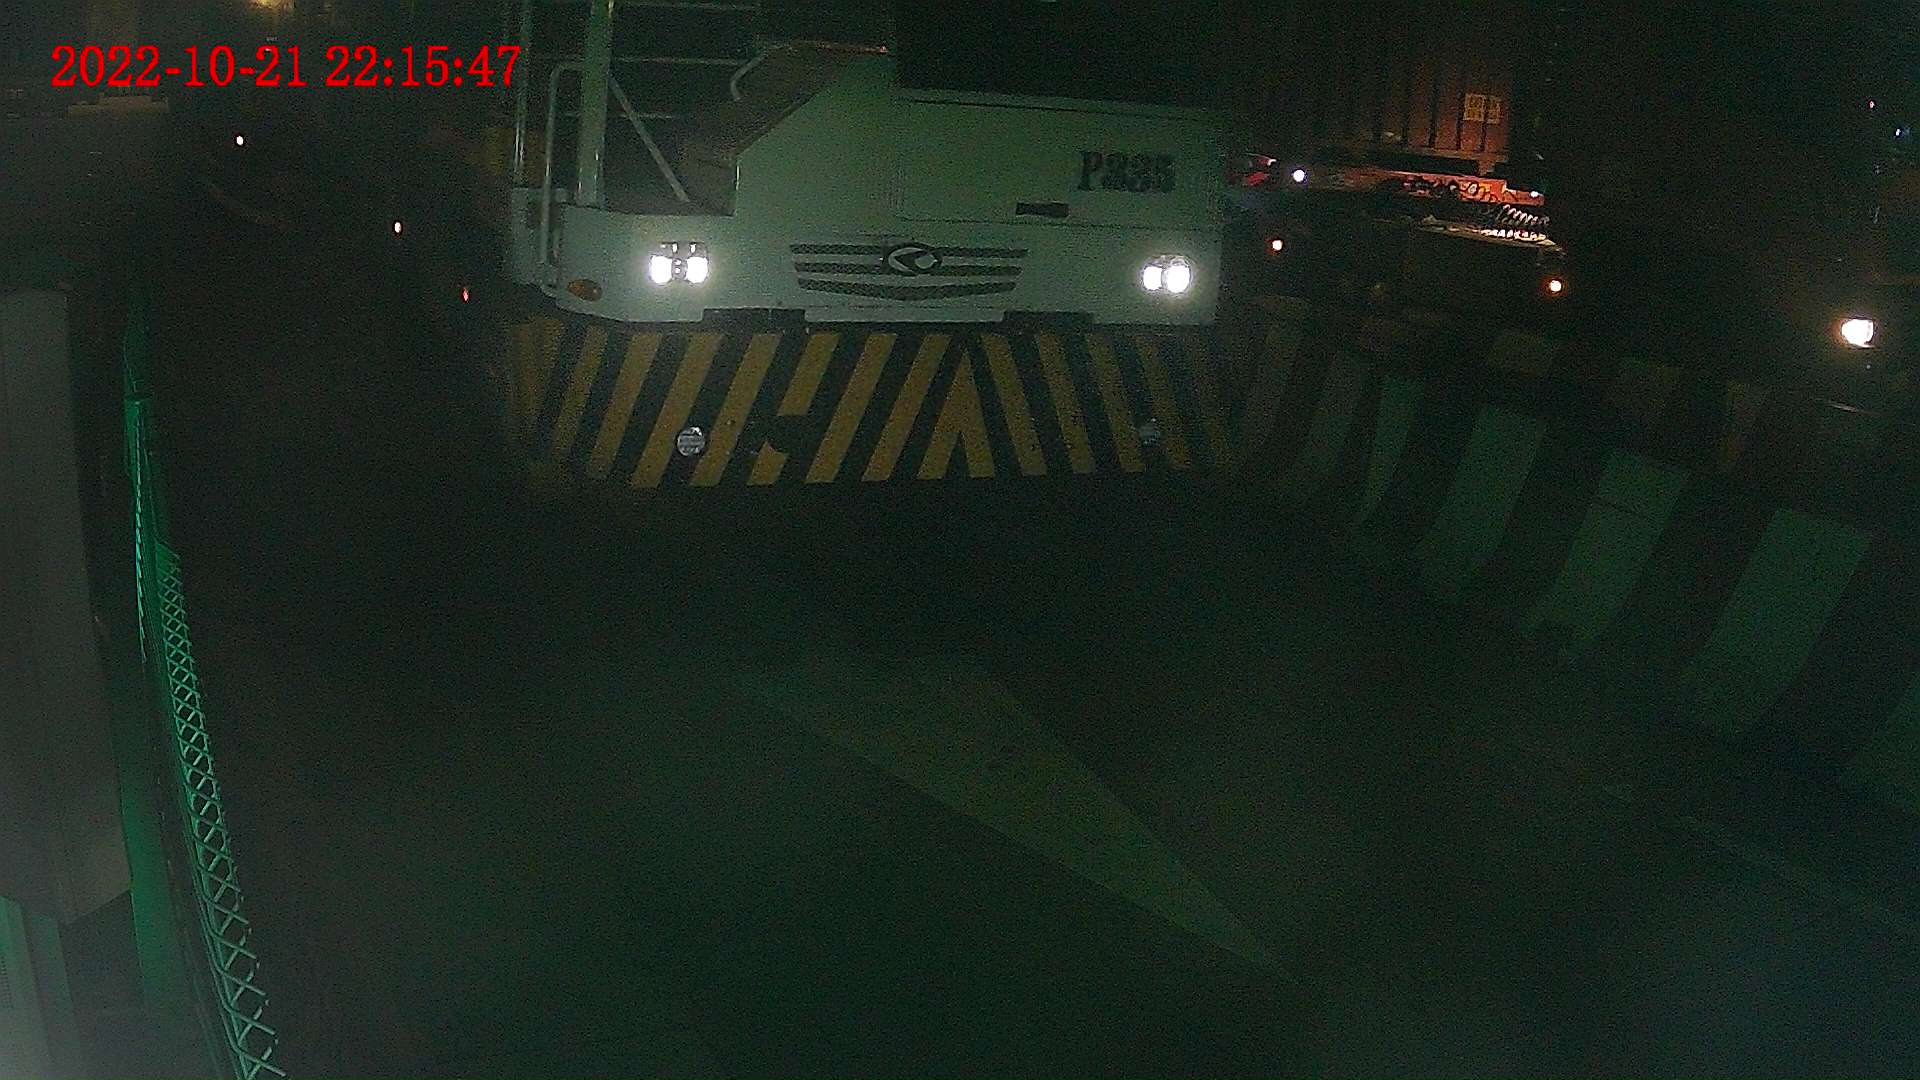head: (434, 1, 1225, 515)
